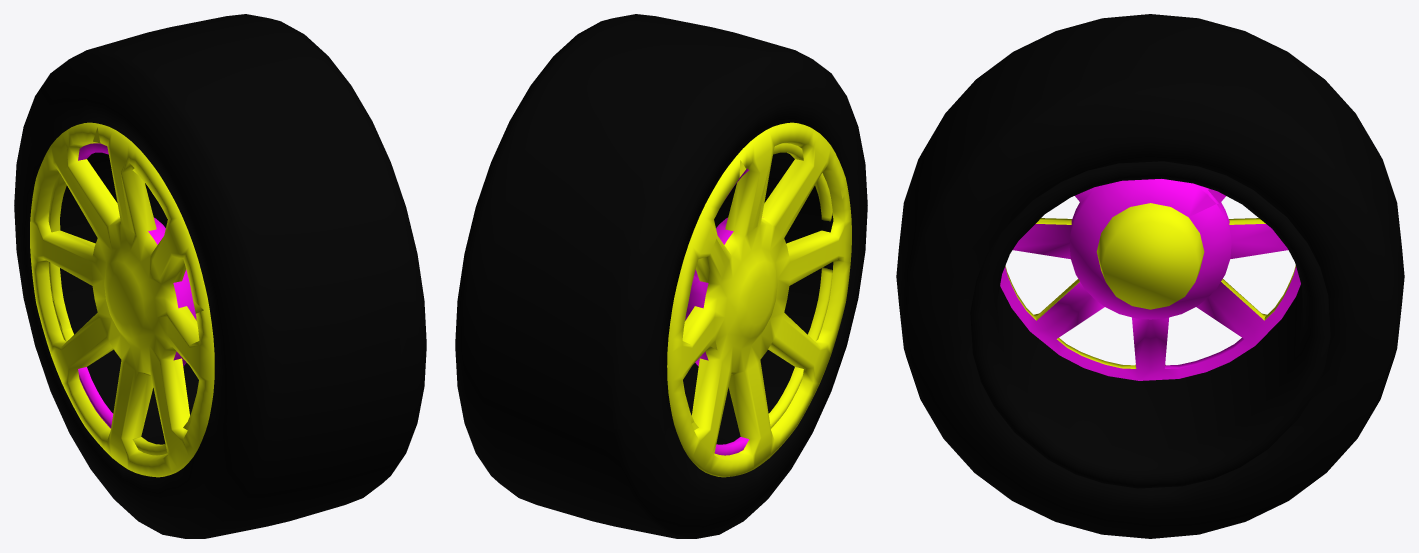
The model's file is frontWheel.FBX.
3 renders of one model, left to right at view 1: azimuth 30°, elevation 25°; view 2: azimuth 150°, elevation 25°; view 3: azimuth 270°, elevation 25°, orthographic.
Parts seen in each view (by area): view 1: WHEEL_Marauder_SM002; view 2: WHEEL_Marauder_SM002; view 3: WHEEL_Marauder_SM002.
Part boxes in pixels (left/top/right/bottom): WHEEL_Marauder_SM002: left=14, top=14, right=426, bottom=538; WHEEL_Marauder_SM002: left=455, top=14, right=867, bottom=538; WHEEL_Marauder_SM002: left=896, top=14, right=1404, bottom=538.
Size of the model in its own units: 0.3021 by 0.6522 by 0.6522.
1 material, 1 textured.
